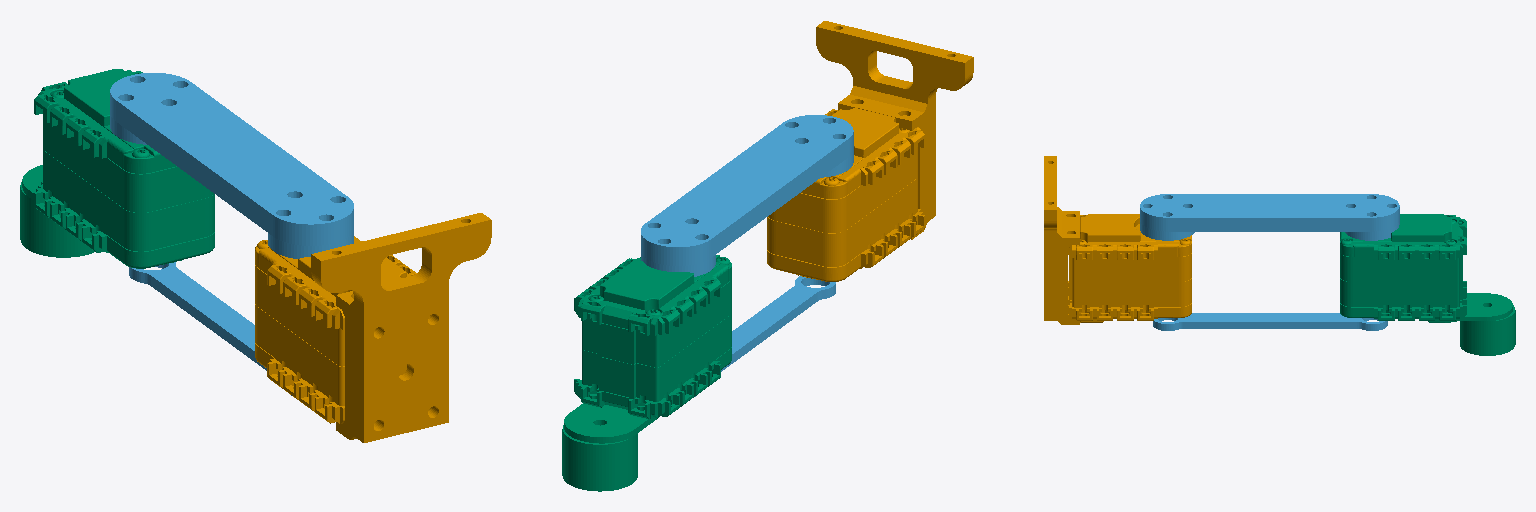
The robot description file, URDF, robot "scara_cpe":
<robot name="scara_cpe" >
		 
  <link name="base_link">
    <visual>
	<origin xyz="0 0.034 0" rpy="-1.57079632679 0 -1.57079632679" />
      <geometry>
        <mesh filename="package://scara_cpe/urdf/scara_cpe-base_link.dae" scale="0.001 0.001 0.001"/>
      </geometry>
    </visual>
  </link>

  <link name="link1" >
    <visual>
	<origin xyz="0 -0.012 0" rpy="-1.57079632679 0 -1.57079632679" />
      <geometry>
        <mesh filename="package://scara_cpe/urdf/scara_cpe-link_1.dae" scale="0.001 0.001 0.001"/>
      </geometry>
    </visual>
  </link>

  <link name="link2" >
    <visual>
	<origin xyz="0.0133 -0.092 0" rpy="-1.57079632679 0 -1.42579632679" /> <!-- pi/2 - 0.145 -->
      <geometry>
        <mesh filename="package://scara_cpe/urdf/scara_cpe-link_2.dae" scale="0.001 0.001 0.001"/>
      </geometry>
    </visual>
  </link>


  <link name="end_link" >
  </link>


  <joint name="shoulder_1_joint" type="revolute">
    <parent link="base_link"/>
    <child link="link1"/>
    <origin xyz="0 0.048 0" rpy="0 0 0" />
	<limit effort="30" velocity="1.0" lower="-1.57079632679" upper="1.57079632679" />
	<axis xyz="0 0 1" />
  </joint>

  <joint name="shoulder_2_joint" type="revolute">
    <parent link="link1"/>
    <child link="link2"/>
    <origin xyz="0 0.08 0" rpy="0 0 0" /> 
	<limit effort="30" velocity="1.0" lower="-2.8" upper="2.8" />
	<axis xyz="0 0 -1" />
  </joint>


  <joint name="end_joint" type="fixed">
    <parent link="link2"/>
    <child link="end_link"/>
    <origin xyz="0 0.047 -0.025" rpy="0 0 0" />
  </joint>


</robot>

--- What the picture shows (computed from the rendered views, not written in the file) ---
Views: 3 orthographic renders of the robot side by side, from view 1: azimuth 30°, elevation 25°; view 2: azimuth 150°, elevation 25°; view 3: azimuth 270°, elevation 25°.
Model scara_cpe with 4 links and 3 joints (2 revolute, 1 fixed), rooted at base_link, posed all joints at 0.
Links seen in each view (by area): view 1: base_link, link2, link1; view 2: base_link, link2, link1; view 3: base_link, link2, link1.
Link boxes in pixels (x1,y1,x2,y2): base_link: [255, 213, 491, 442]; link2: [20, 69, 214, 268]; link1: [110, 73, 353, 395]; base_link: [767, 21, 973, 281]; link2: [562, 255, 731, 491]; link1: [641, 115, 853, 396]; base_link: [1044, 156, 1191, 324]; link2: [1340, 214, 1515, 355]; link1: [1140, 194, 1399, 330].
Bounding box of the posed robot: 0.05 × 0.185 × 0.07 m (x, y, z).
3 mesh visuals loaded from 3 distinct referenced files (3 Collada DAE).